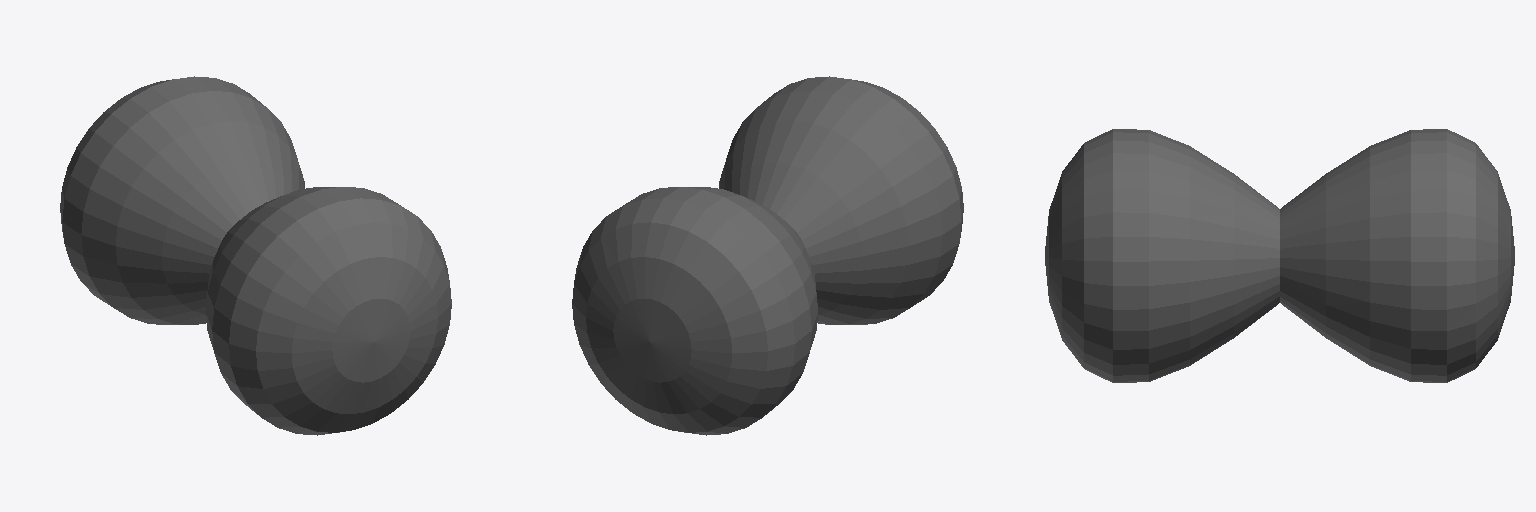
File: hip.obj
The picture shows the model from 3 angles: view 1: azimuth 30°, elevation 25°; view 2: azimuth 150°, elevation 25°; view 3: azimuth 270°, elevation 25°; orthographic projection.
Visible parts, largest first — view 1: Sphere001; view 2: Sphere001; view 3: Sphere001.
Boxes of the visible parts, box(x1,y1,x2,y2) form: Sphere001: box(60, 76, 451, 435); Sphere001: box(572, 76, 963, 435); Sphere001: box(1045, 129, 1514, 382).
Size of the model in its own units: 0.6498 by 0.6498 by 1.2.